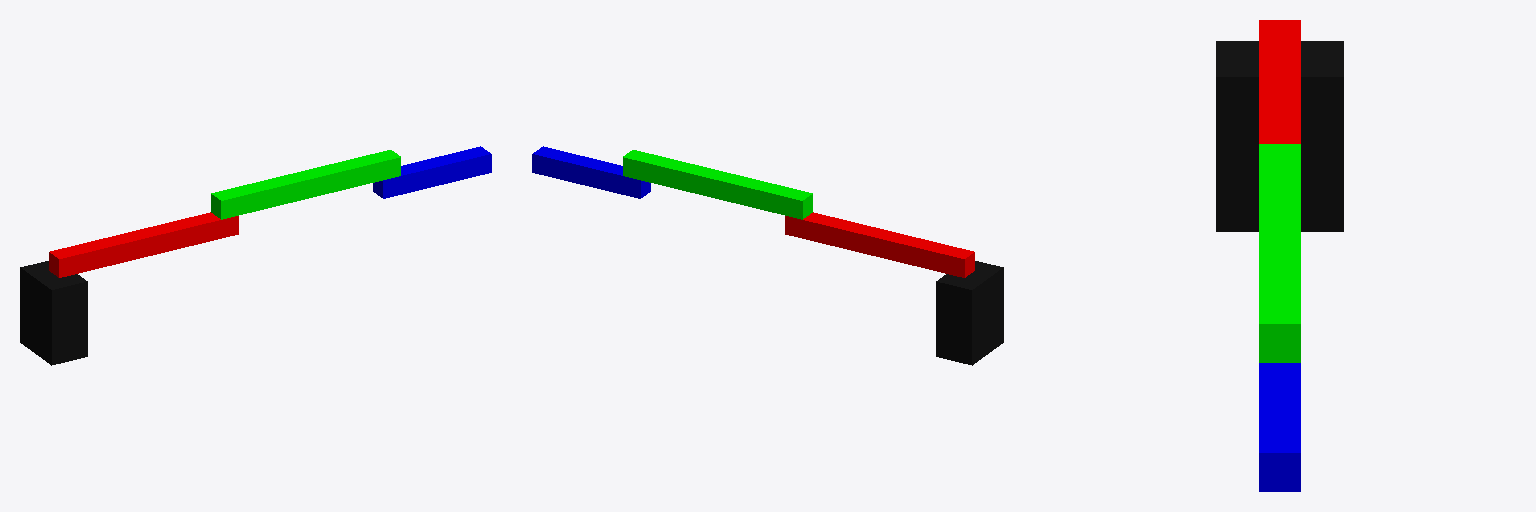
URDF robot description (robot_scara):
<?xml version="1.0" encoding="utf-8"?>
<!--Aqui comienza el robot-->
<robot name="robot_scara">

    <link name="base_link">
        <visual>
            <origin xyz="0.0 0.0 0.1" rpy="0 0 0" />
            <geometry>
                <box size="0.1 0.15 0.2" />
            </geometry>
            <material name="grey">
                <color rgba="0.1 0.1 0.1 1.0" />
            </material>
        </visual>
        <collision>
            <origin xyz="0.0 0.0 0.1" rpy="0 0 0" />
            <geometry>
                <box size="0.1 0.15 0.2" />
            </geometry>
        </collision>
        <inertial>
            <origin xyz="0 0 0" rpy="0 0 0"/>
            <mass value="1"/>
            <inertia ixx="1.0" ixy="0.0" ixz="0.0" 
                iyy="1.0" iyz="0.0" izz="1.0"/>
        </inertial>
    </link>

    <link name="link_1">
        <visual>
            <origin xyz="0.25 0.0 0.0" rpy="0 0 0" />
            <geometry>
                <box size="0.5 0.05 0.05" />
            </geometry>
            <material name="red">
                <color rgba="1 0.0 0.0 1.0"/>
            </material>
        </visual>
        <collision>
            <origin xyz="0.25 0.0 0.0" rpy="0 0 0" />
            <geometry>
                <box size="0.5 0.05 0.05" />
            </geometry>
        </collision>
        <inertial>
            <origin xyz="0 0 0" rpy="0 0 0"/>
            <mass value="1"/>
            <inertia ixx="1.0" ixy="0.0" ixz="0.0" 
                iyy="1.0" iyz="0.0" izz="1.0"/>
        </inertial>
    </link>

    <joint name="link_1_joint" type="revolute">
        <parent link="base_link"/>
        <child link="link_1"/>
        <axis xyz="0 0 1"/>
        <limit lower="-3.14159" upper="3.14159" velocity="50.0" 
               effort="1000.0"/>
        <origin xyz="0 0 0.225" rpy="0 0 0"/>
    </joint>

    <link name="link_2">
        <visual>
            <origin xyz="0.25 0.0 0.0" rpy="0 0 0" />
            <geometry>
                <box size="0.5 0.05 0.05" />
            </geometry>
            <material name="green">
                <color rgba="0.0 1.0 0.0 1.0" />
            </material>
        </visual>
        <collision>
            <origin xyz="0.25 0.0 0.0" rpy="0 0 0" />
            <geometry>
                <box size="0.5 0.05 0.05" />
            </geometry>
        </collision>
        <inertial>
            <origin xyz="0 0 0" rpy="0 0 0"/>
            <mass value="1"/>
            <inertia ixx="1.0" ixy="0.0" ixz="0.0" 
                iyy="1.0" iyz="0.0" izz="1.0"/>
        </inertial>
    </link>

    <joint name="link_2_joint" type="revolute">
        <parent link="link_1"/>
        <child link="link_2"/>
        <axis xyz="0 0 1"/>
        <limit lower="-3.14159" upper="3.14159" velocity="50.0" 
               effort="1000.0"/>
        <origin xyz="0.45 0 0.05" rpy="0 0 0"/>
    </joint>

    <link name="link_3">
        <visual>
            <origin xyz="0.15 0.0 0.0" rpy="0 0 0" />
            <geometry>
                <box size="0.3 0.05 0.05" />
            </geometry>
            <material name="blue">
                <color rgba="0.0 0.0 1.0 1.0" />
            </material>
        </visual>
        <collision>
            <origin xyz="0.15 0.0 0.0" rpy="0 0 0" />
            <geometry>
                <box size="0.3 0.05 0.05" />
            </geometry>
        </collision>
        <inertial>
            <origin xyz="0 0 0" rpy="0 0 0"/>
            <mass value="1"/>
            <inertia ixx="1.0" ixy="0.0" ixz="0.0" 
                iyy="1.0" iyz="0.0" izz="1.0"/>
        </inertial>
    </link>

    <joint name="link_3_joint" type="revolute">
        <parent link="link_2"/>
        <child link="link_3"/>
        <axis xyz="0 0 1"/>
        <limit lower="-3.14159" upper="3.14159" velocity="50.0" 
               effort="1000.0"/>
        <origin xyz="0.45 0 -0.05" rpy="0 0 0"/>
    </joint>

</robot>

--- Render facts (derived) ---
Views: 3 orthographic renders of the robot side by side, from view 1: azimuth 30°, elevation 25°; view 2: azimuth 150°, elevation 25°; view 3: azimuth 270°, elevation 25°.
Model robot_scara with 4 links and 3 joints (3 revolute), rooted at base_link, posed all joints at 0.
Links seen in each view (by area): view 1: base_link, link_2, link_1, link_3; view 2: base_link, link_2, link_1, link_3; view 3: base_link, link_2, link_3, link_1.
Link boxes in pixels (<box>): base_link: <box>20,261,87,365</box>; link_2: <box>211,150,400,219</box>; link_1: <box>49,212,238,277</box>; link_3: <box>373,146,491,198</box>; base_link: <box>936,261,1003,365</box>; link_2: <box>623,150,812,219</box>; link_1: <box>785,212,974,277</box>; link_3: <box>532,146,650,198</box>; base_link: <box>1216,41,1343,231</box>; link_2: <box>1259,144,1300,362</box>; link_3: <box>1259,363,1300,491</box>; link_1: <box>1259,20,1300,143</box>.
Size in the robot's own frame: 1.25 by 0.15 by 0.3 metres.
Geometry: primitives only (box / cylinder / sphere), no mesh files.
